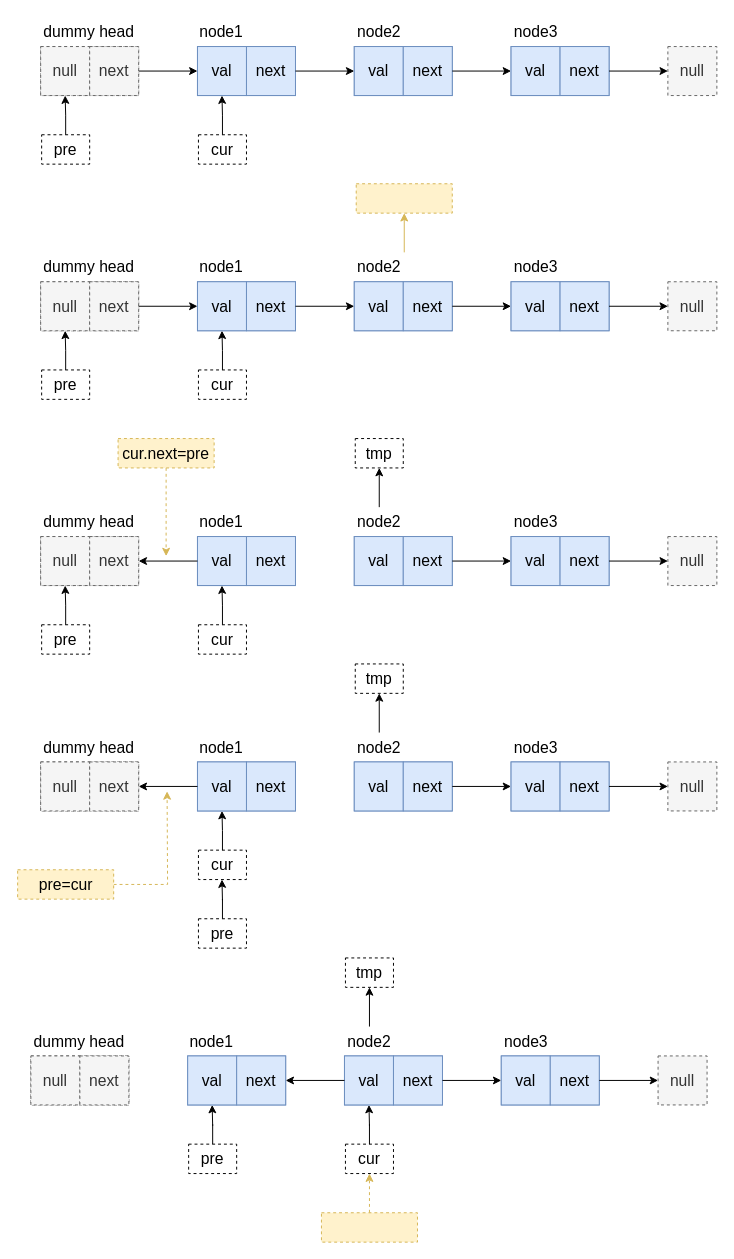
Some shapes in this 734 by 1259 pixel diagram are drawn without their labels. Each missing label, with the box of its shape:
cur=tmp: (320, 1212, 417, 1242)
tmp=cur.next: (355, 183, 452, 213)
